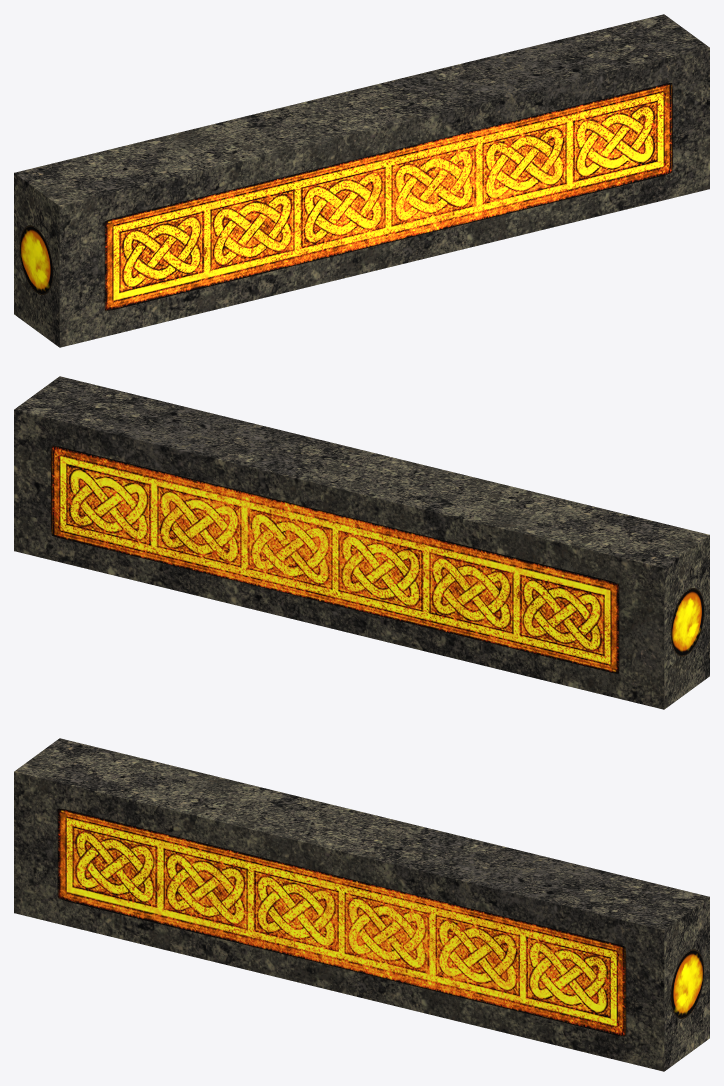
The model's file is mountain_small_border.gltf.
The picture shows the model from 3 angles, top to bottom: view 1: azimuth 30°, elevation 25°; view 2: azimuth 150°, elevation 25°; view 3: azimuth 330°, elevation 25°; orthographic projection.
Visible parts, largest first — view 1: mountain_small_border_glb; view 2: mountain_small_border_glb; view 3: mountain_small_border_glb.
Part boxes in pixels (x1=…): mountain_small_border_glb: x1=14, y1=14, x2=709, y2=347; mountain_small_border_glb: x1=14, y1=376, x2=709, y2=709; mountain_small_border_glb: x1=14, y1=738, x2=709, y2=1071.
Size of what is drawn, in the model's own units: 2.28 by 0.4726 by 0.2839.
Materials: 2 (2 with a texture image).
